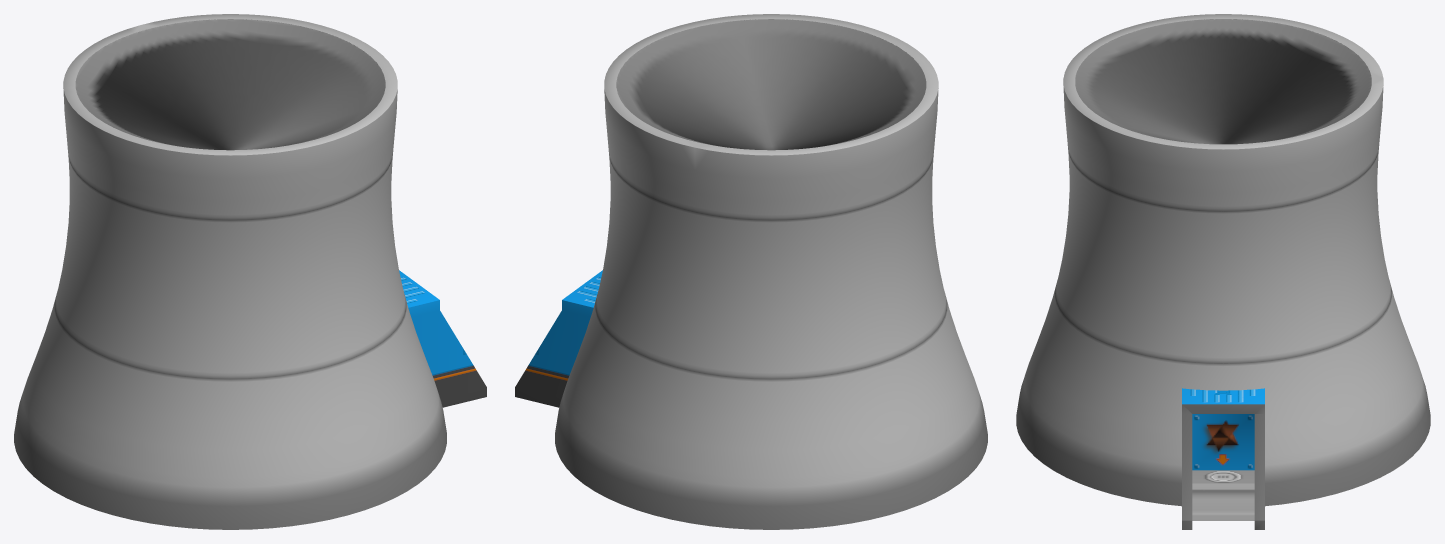
File: nuclear1.obj
The picture shows the model from 3 angles, left to right: view 1: azimuth 30°, elevation 25°; view 2: azimuth 150°, elevation 25°; view 3: azimuth 270°, elevation 25°; orthographic projection. The views are drawn at different scales.
Parts seen in each view (by area): view 1: ColobotMesh_1_ColobotMesh_; view 2: ColobotMesh_1_ColobotMesh_; view 3: ColobotMesh_1_ColobotMesh_.
Part boxes in pixels (left/top/right/bottom): ColobotMesh_1_ColobotMesh_: left=14, top=14, right=486, bottom=529; ColobotMesh_1_ColobotMesh_: left=515, top=14, right=987, bottom=529; ColobotMesh_1_ColobotMesh_: left=1016, top=14, right=1430, bottom=529.
Bounding box in the file's own units: 45 × 36.01 × 39.95.
